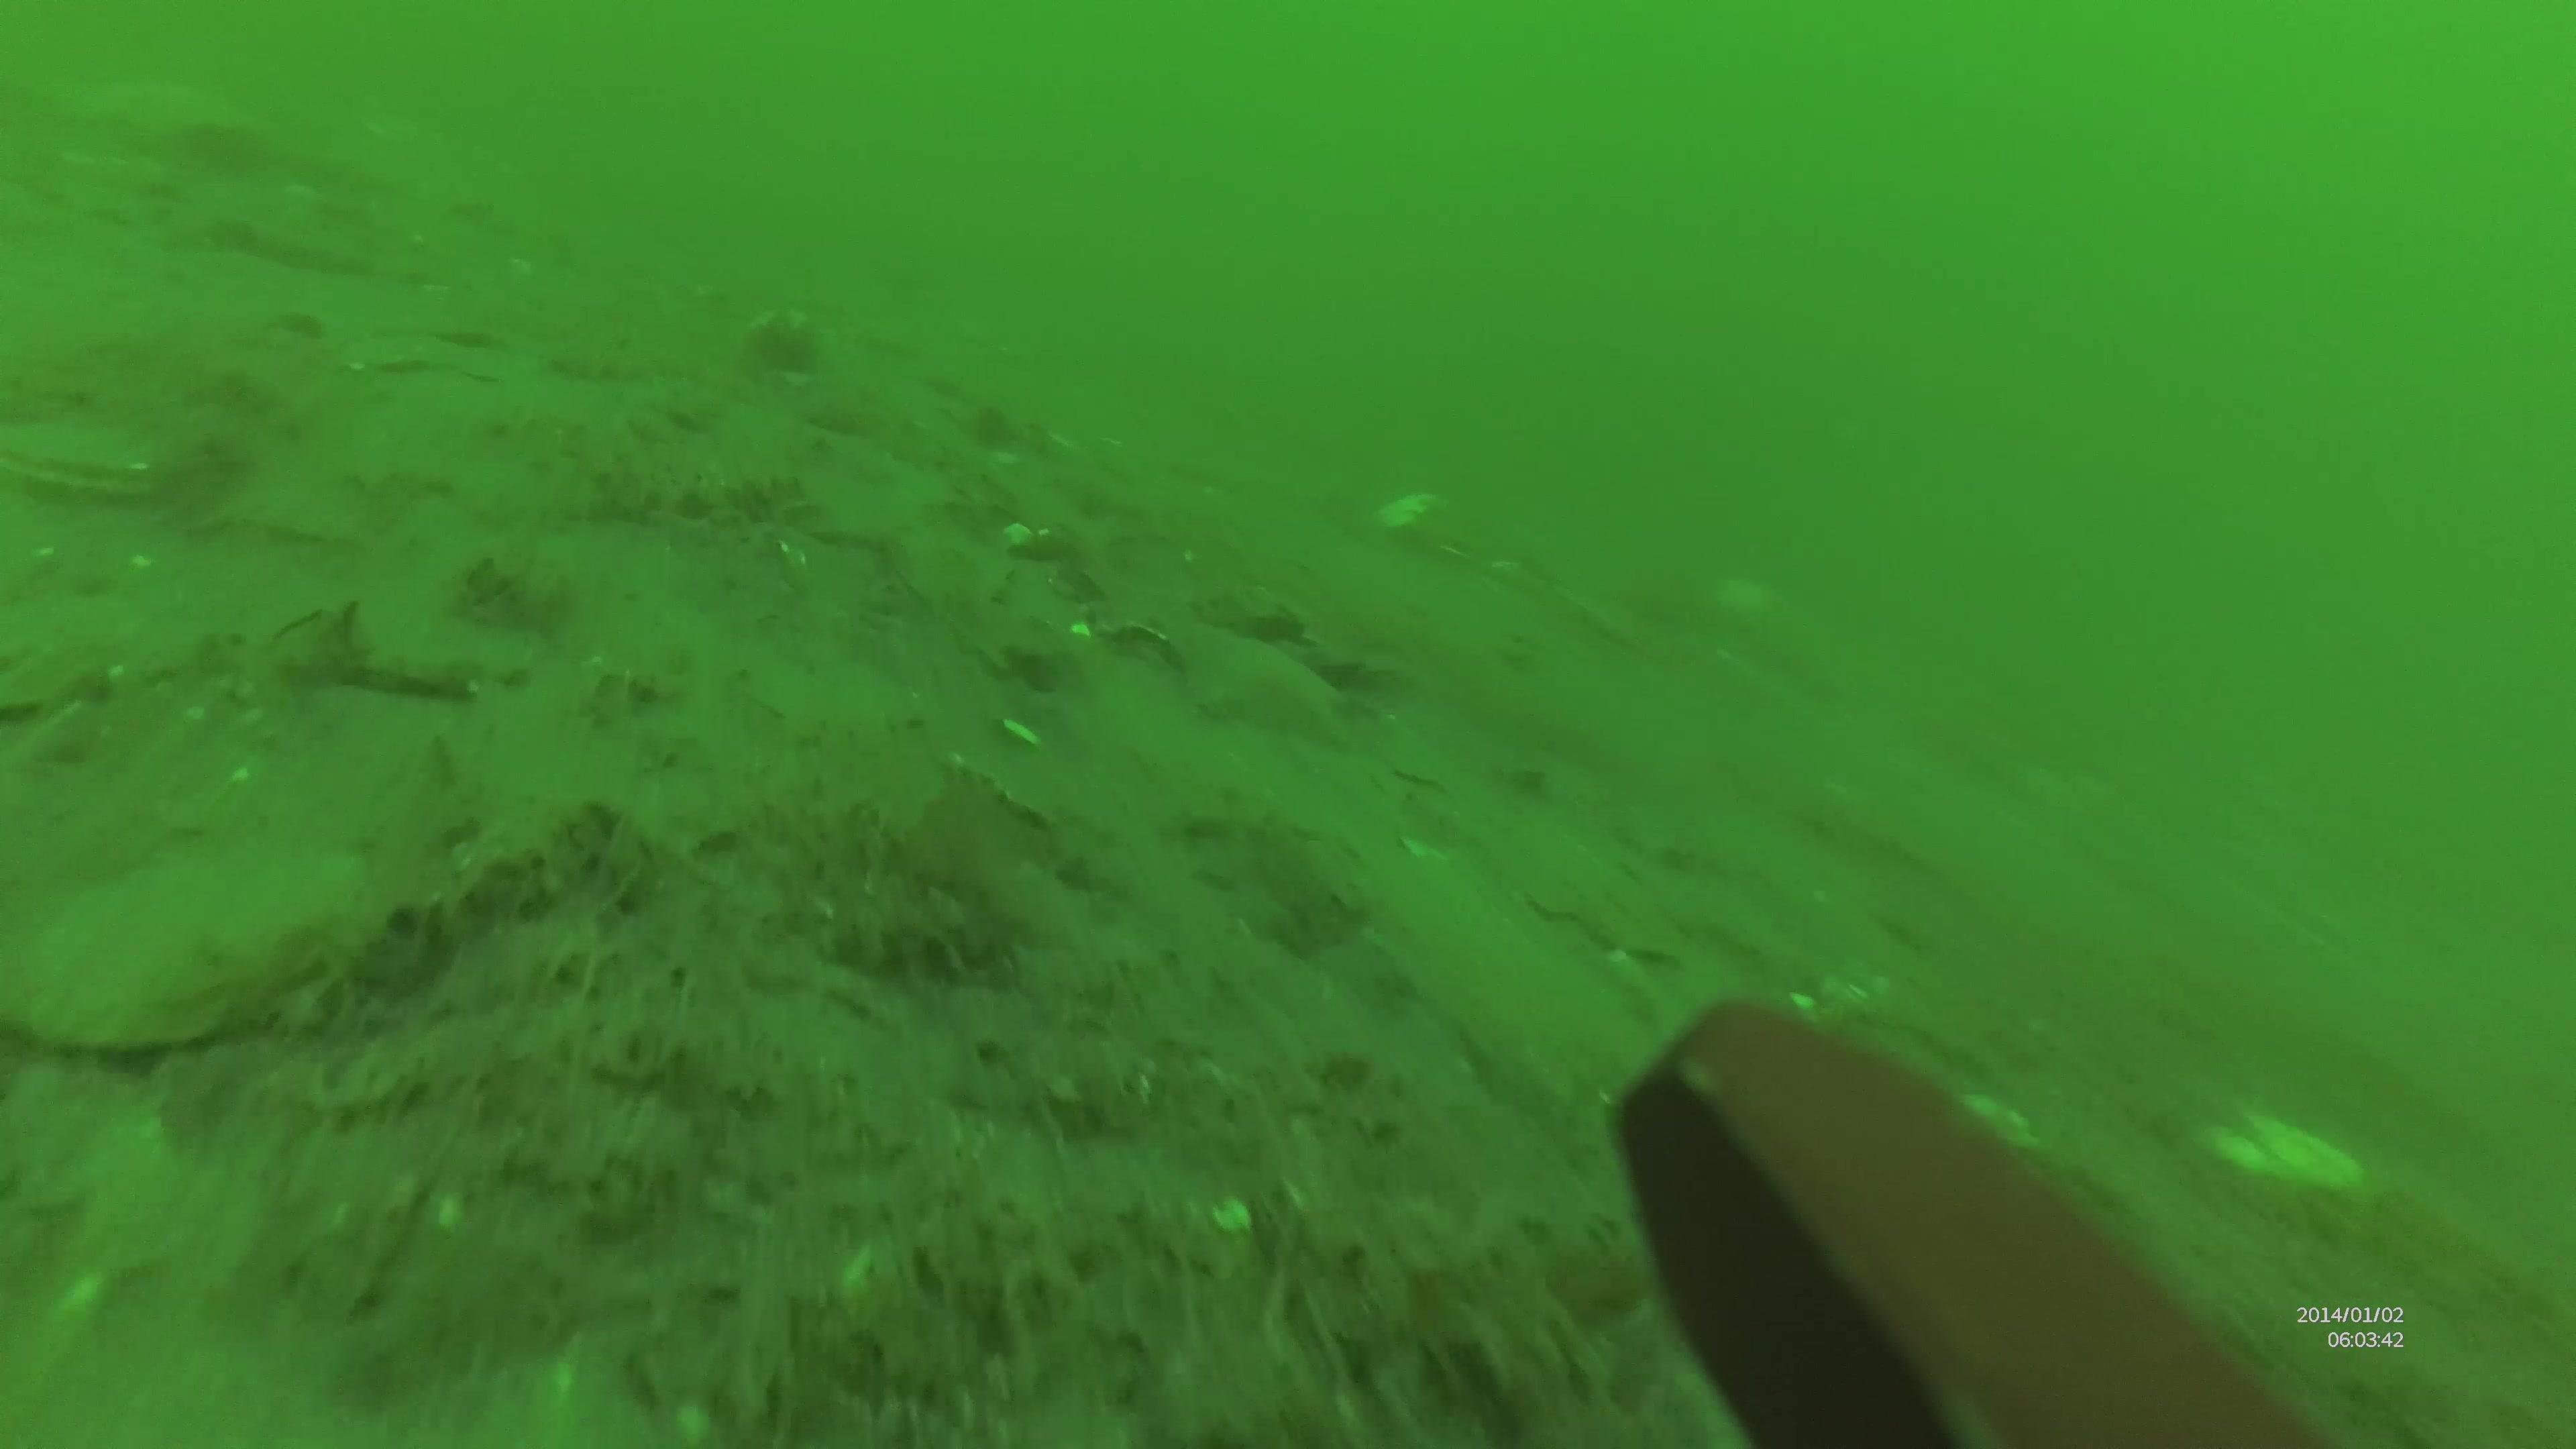scallop: (9, 396, 165, 525)
starfish: (1146, 614, 1361, 754)
